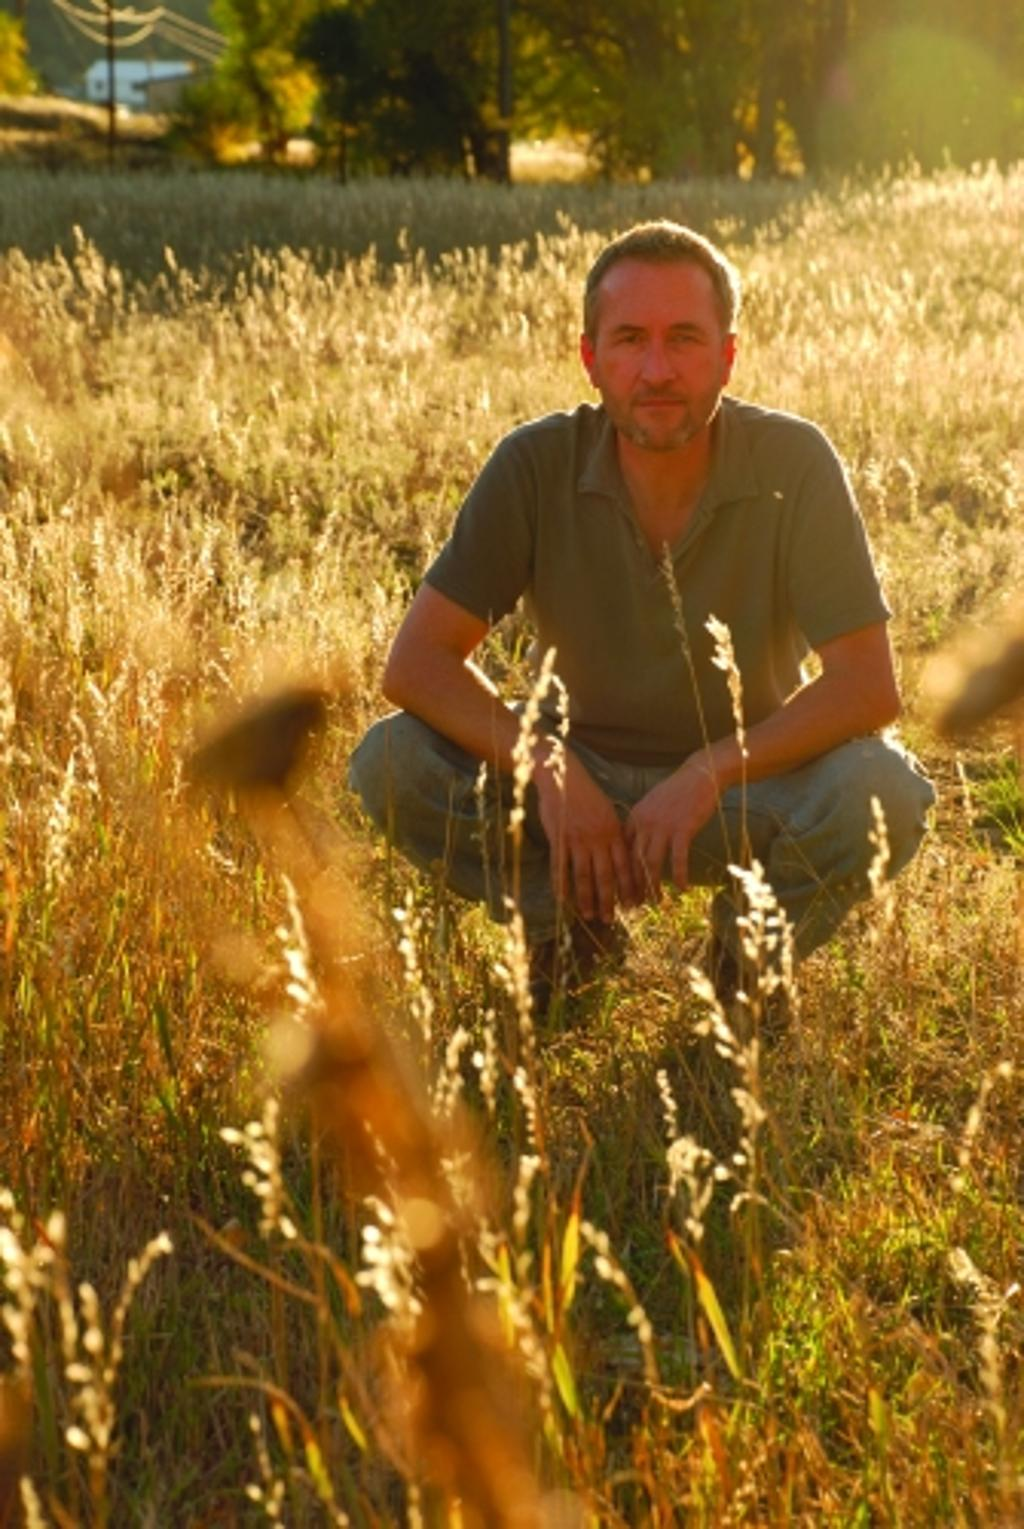face: (597, 257, 728, 439)
